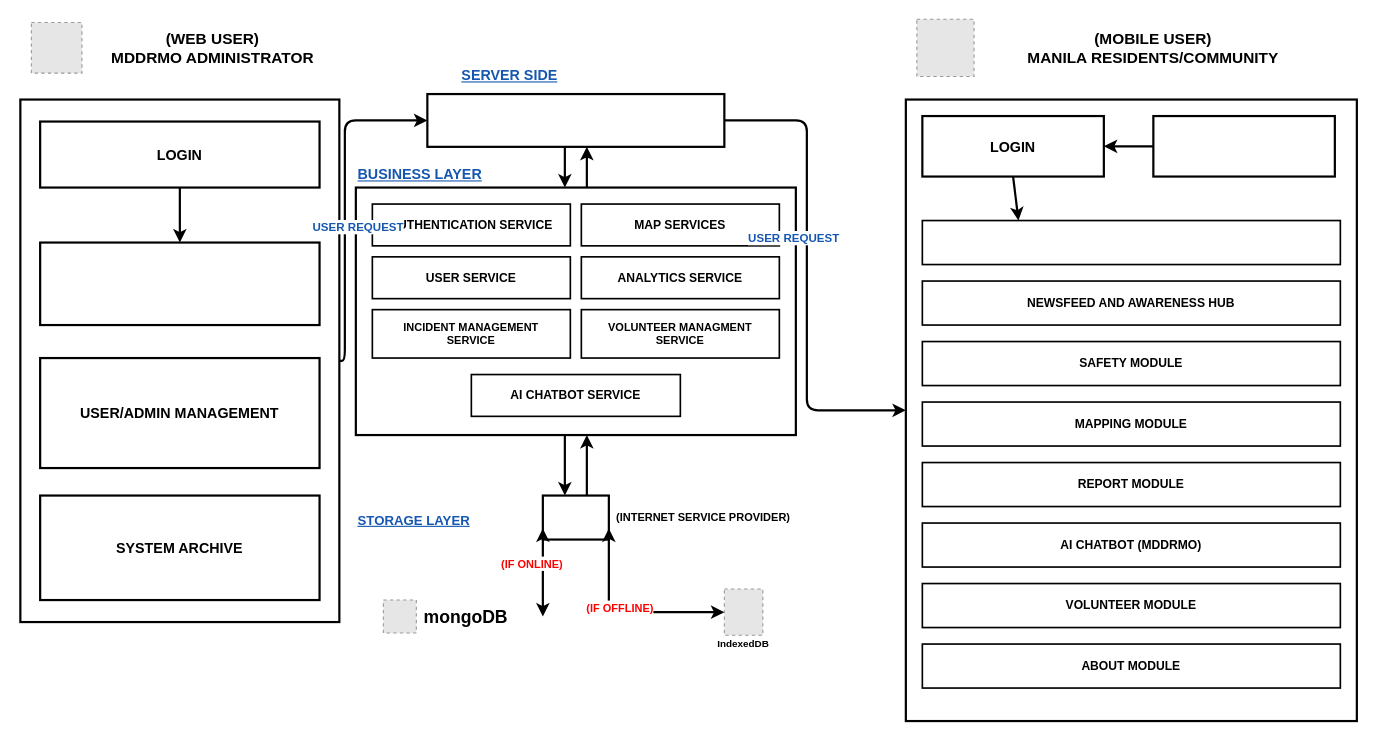
Image size: 1376x741. Some labels were removed from this diagram. Grey dashed boxes stand in for pictures. The shapes that lost their labels are listed below. From the top down, each one's centre as x and y in pixels, then its label:
point 575,119: node (JS) + EXPRESS Js
point 1243,145: REGISTER
point 1131,242: PROFILE
point 179,283: DASHBOARD
point 575,517: ISP
